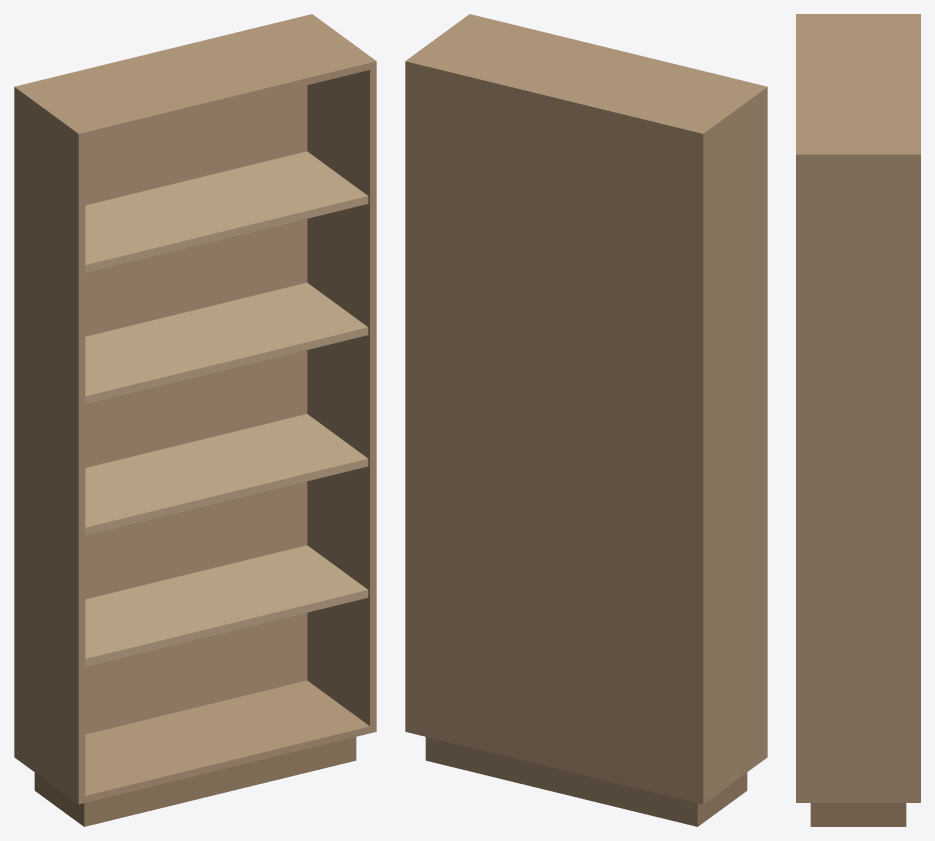
The picture shows the model from 3 angles, left to right: view 1: azimuth 30°, elevation 25°; view 2: azimuth 150°, elevation 25°; view 3: azimuth 270°, elevation 25°; orthographic projection. The views are drawn at different scales.
Visible parts, largest first — view 1: Carcass, Shelves, Plinth; view 2: Carcass, Plinth; view 3: Carcass, Plinth.
Boxes of the visible parts, x1,y1,x2,y2 form: Carcass: [14, 14, 376, 804]; Shelves: [85, 151, 368, 666]; Plinth: [34, 737, 356, 826]; Carcass: [405, 14, 767, 804]; Plinth: [425, 737, 747, 826]; Carcass: [796, 14, 920, 802]; Plinth: [810, 803, 906, 826].
Size of the model in its own units: 0.8 by 1.8 by 0.3.
